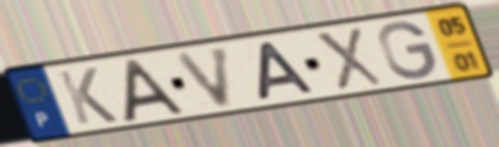A: (120, 56, 190, 125), (255, 40, 319, 103)
G: (374, 19, 439, 82)
K: (54, 65, 122, 127)
V: (172, 42, 233, 111)
X: (310, 25, 387, 93)
